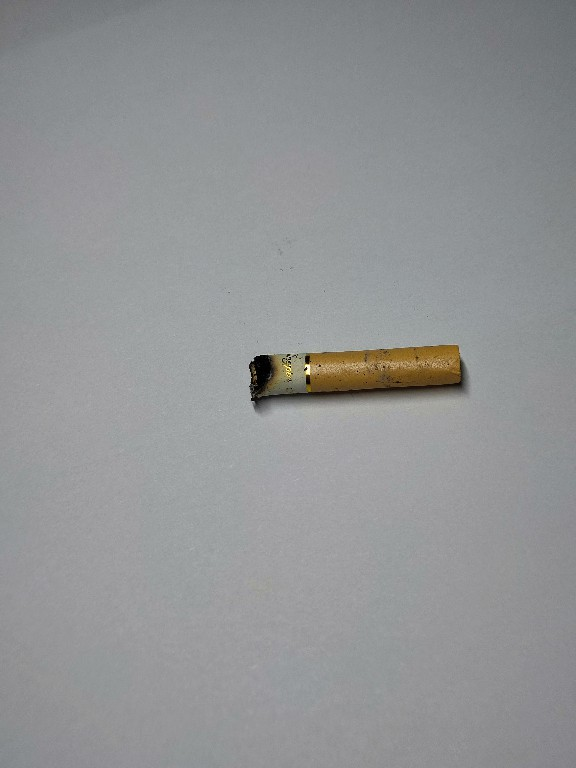cigarette: (247, 339, 463, 408)
